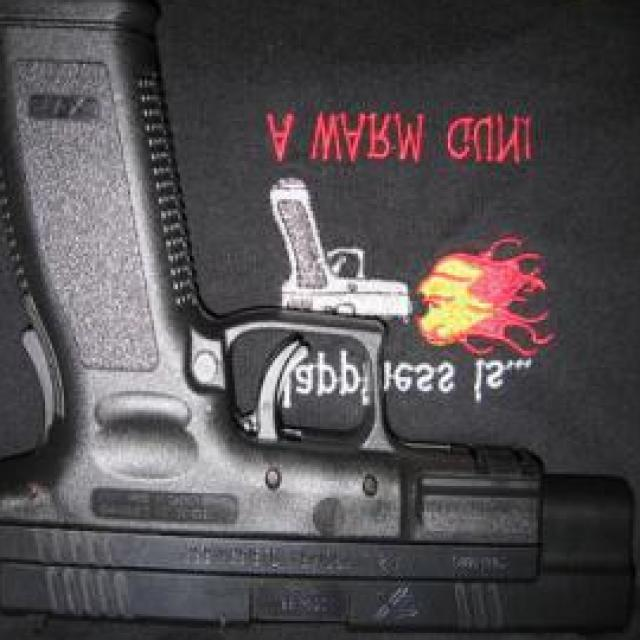pistol: (0, 0, 633, 640), (270, 176, 416, 332)
